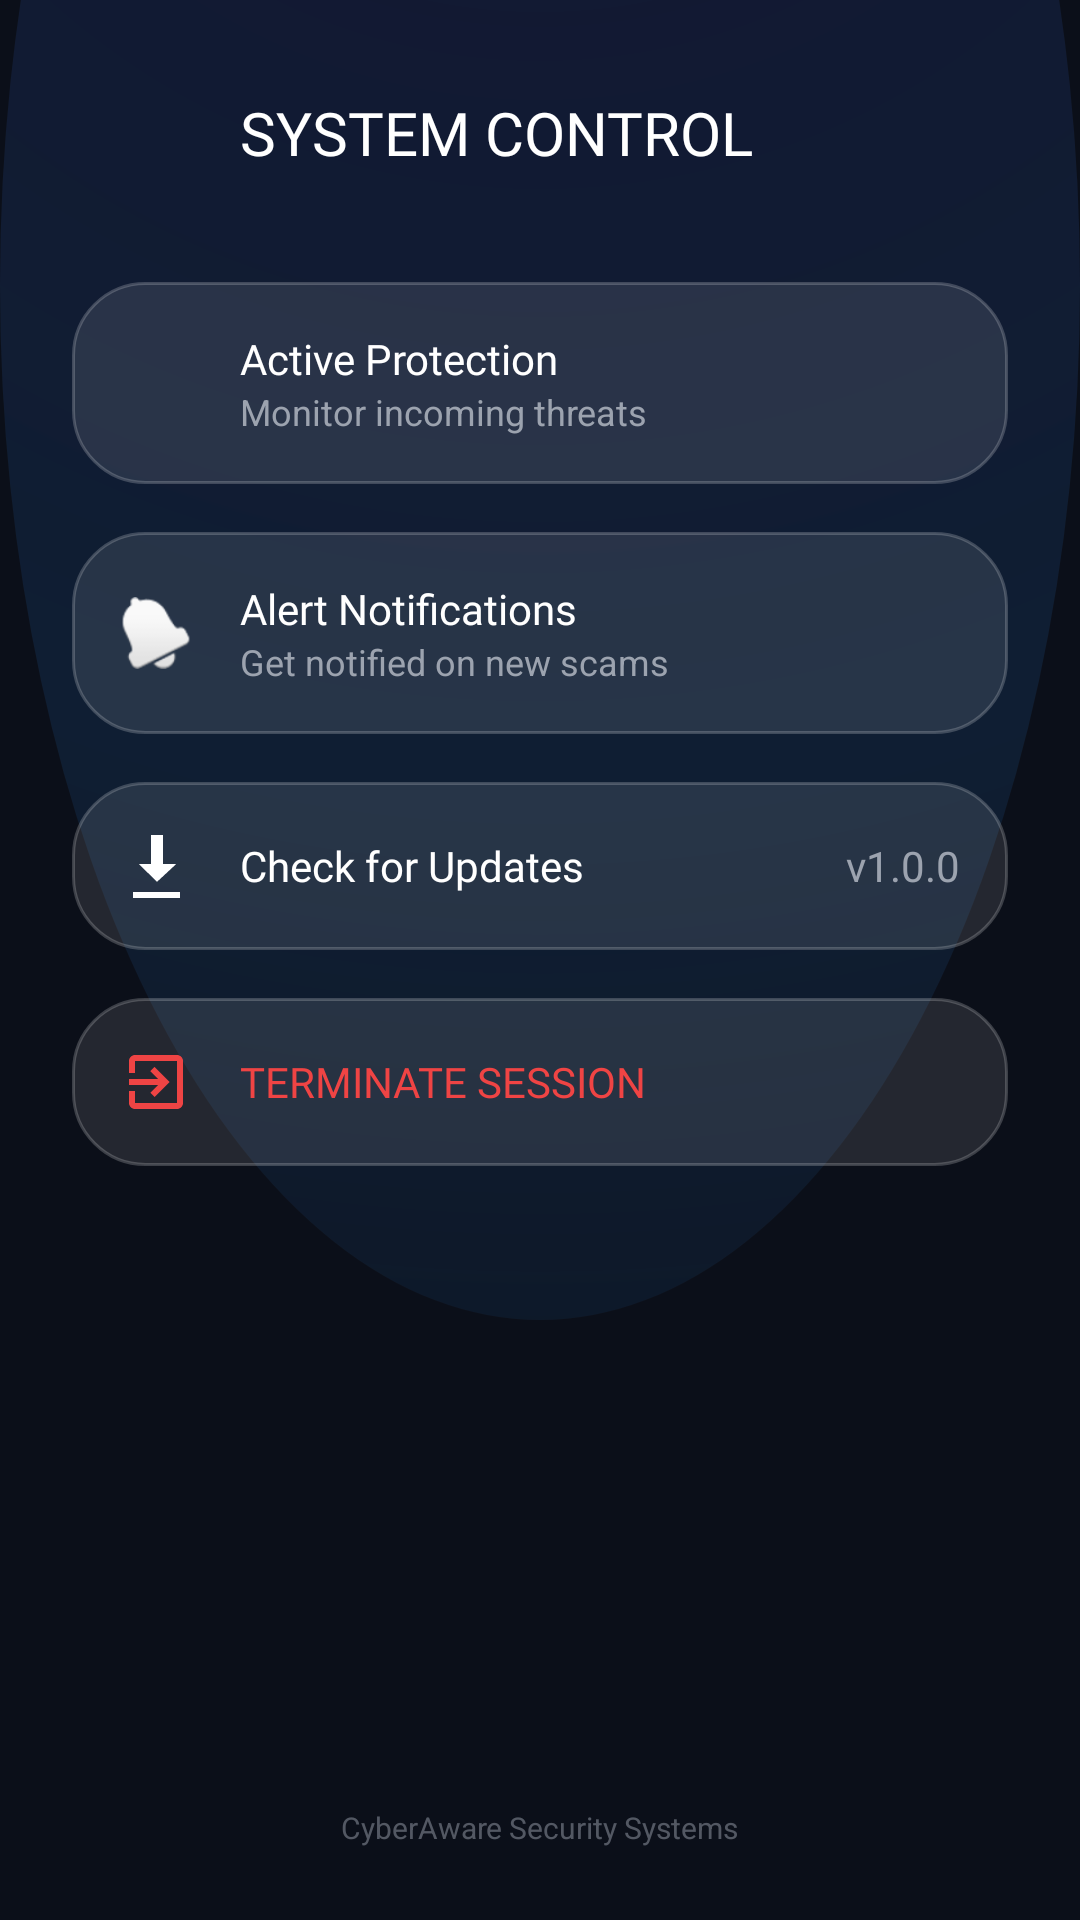

Locate icon controls on the screen. Image size 1080w x 1920h, boxes as (x1, y1, x2, y2).
download: (133, 835, 180, 898)
popup reminder: (122, 597, 190, 669)
